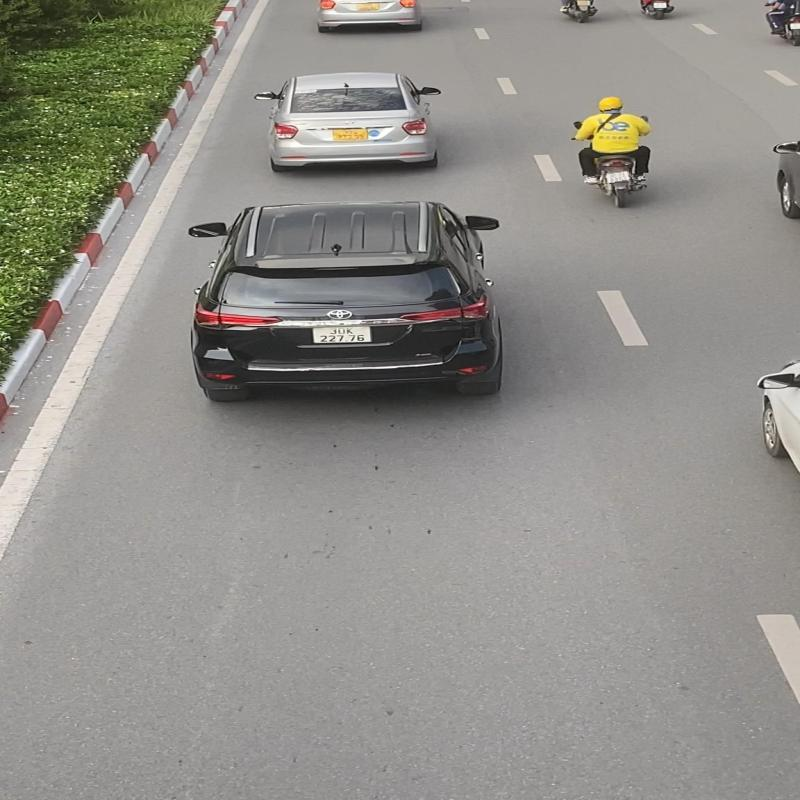helmet: (597, 96, 626, 112)
licenseplate: (604, 171, 632, 184)
motorcyclist: (566, 94, 658, 210)
